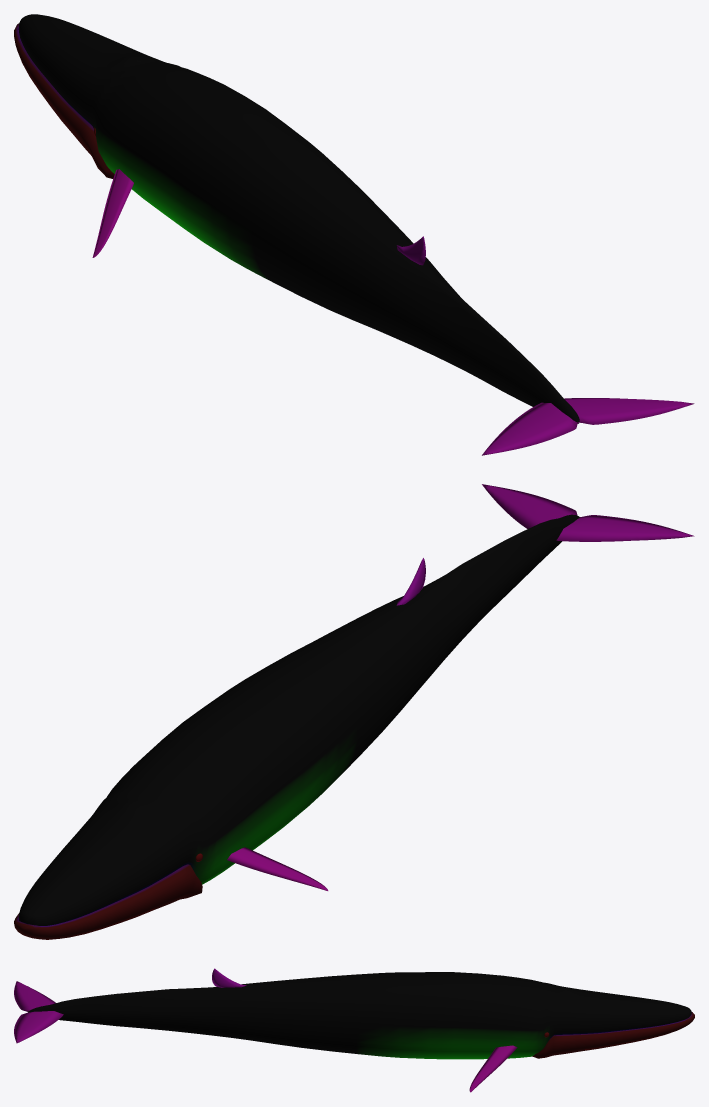
File: fin_whale_game.glb
3 renders of one model, top to bottom at view 1: azimuth 30°, elevation 25°; view 2: azimuth 150°, elevation 25°; view 3: azimuth 270°, elevation 25°, orthographic. The views are drawn at different scales.
Parts seen in each view (by area): view 1: fin_whale_game; view 2: fin_whale_game; view 3: fin_whale_game.
Part boxes in pixels (x1,y1,x2,y2): fin_whale_game: [14, 14, 694, 455]; fin_whale_game: [14, 484, 694, 939]; fin_whale_game: [14, 968, 694, 1092].
Size of the model in its own units: 4.87 by 2.94 by 20.22.
